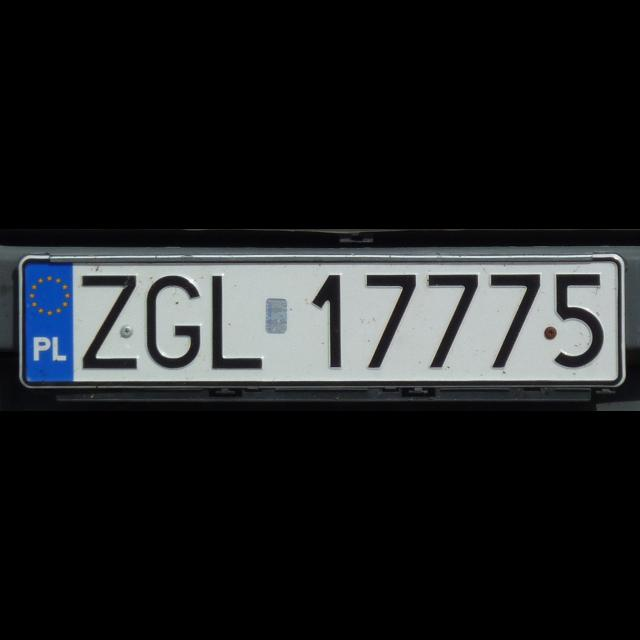pl_license_plate: (22, 262, 620, 384)
